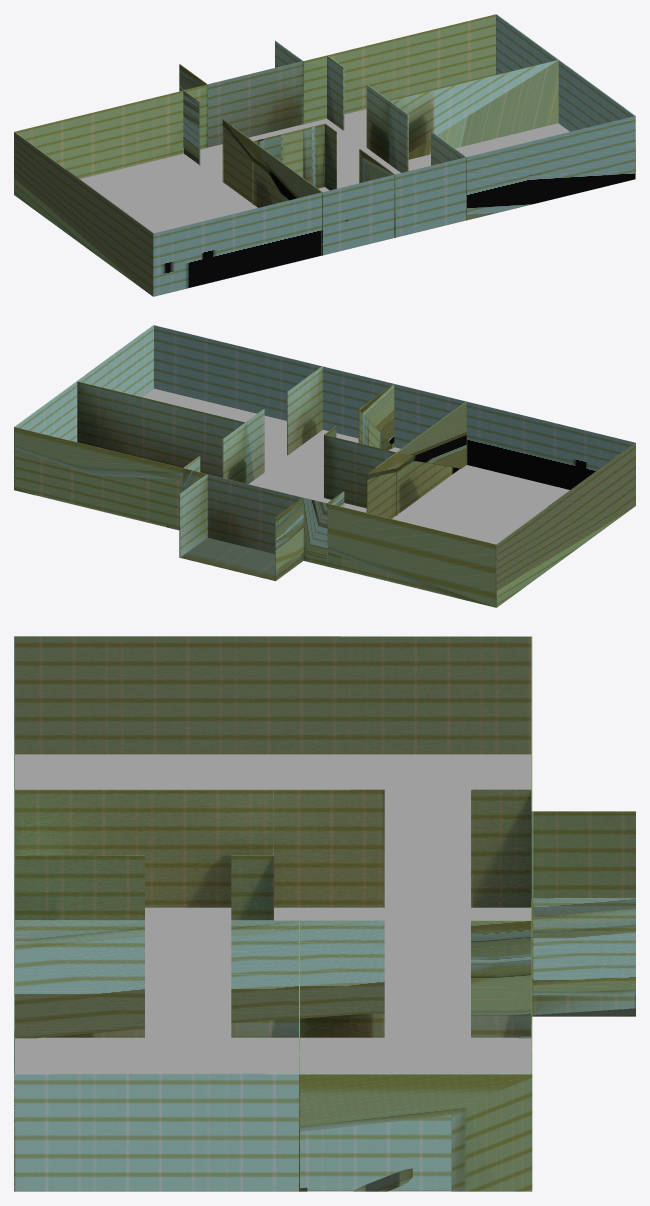
The model's file is PrototypeMap2.fbx.
3 views of the same model, one above another, from view 1: azimuth 30°, elevation 25°; view 2: azimuth 150°, elevation 25°; view 3: azimuth 270°, elevation 25° (orthographic). The views are drawn at different scales.
Parts seen in each view (by area): view 1: House; view 2: House; view 3: House.
Part boxes in pixels (left/top/right/bottom): House: left=14, top=14, right=635, bottom=296; House: left=14, top=325, right=635, bottom=607; House: left=14, top=636, right=635, bottom=1191.
Size of the model in its own units: 4000 by 500 by 2400.
2 materials, 1 textured.
